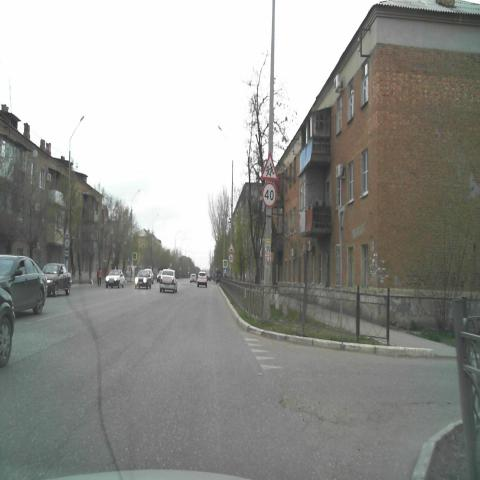3_24: (261, 181, 277, 208)
